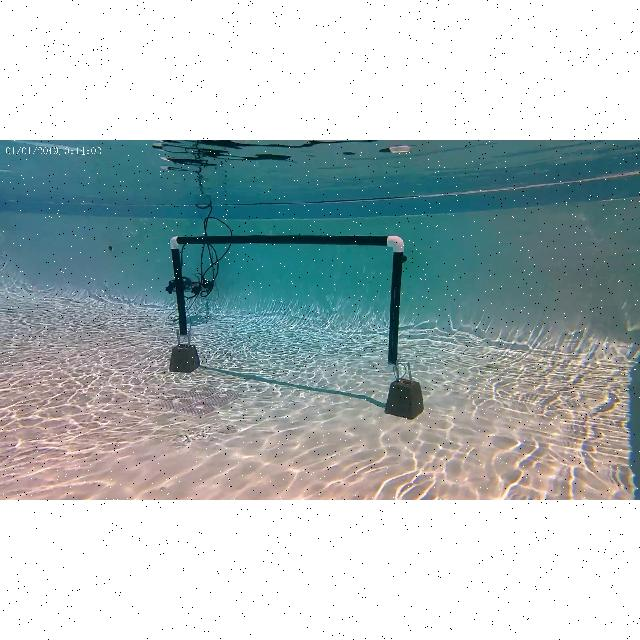prequal gate: (170, 236, 404, 368)
prequal gate leg l: (165, 235, 197, 351)
prequal gate leg r: (373, 234, 407, 368)
